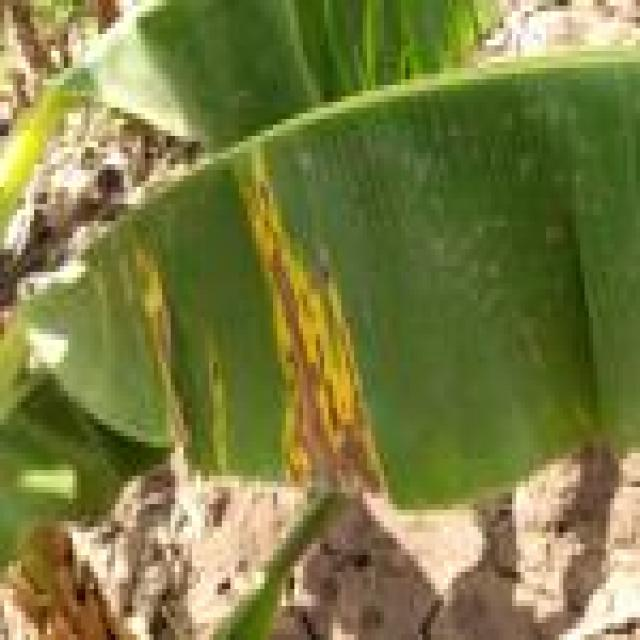Early_rust: (52, 136, 406, 556)
